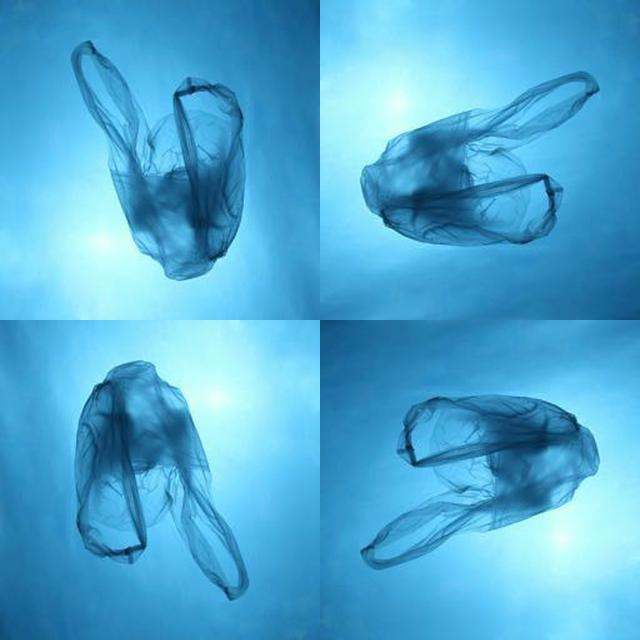Single-layer Plastic: (361, 71, 599, 246), (71, 41, 245, 280), (75, 361, 249, 599), (361, 396, 599, 568)
